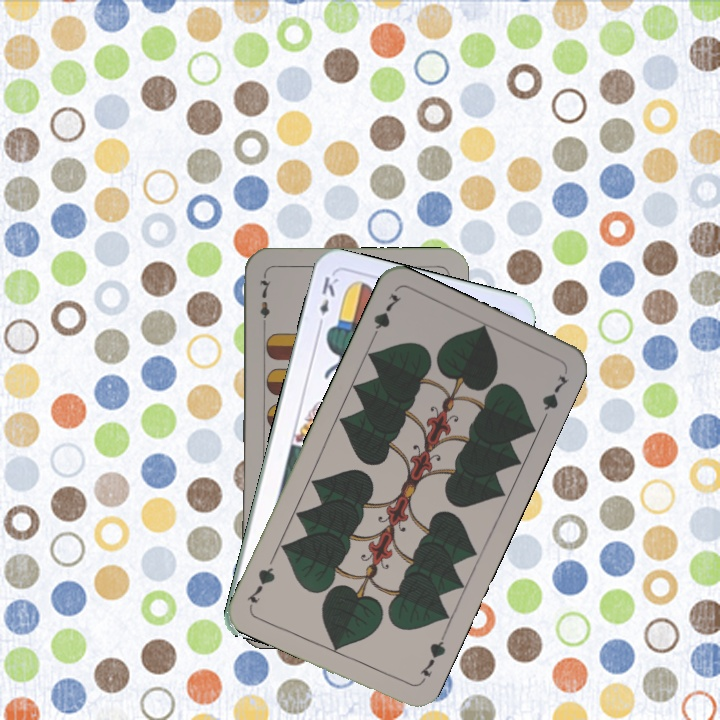E7: (255, 273, 273, 332)
EK: (314, 272, 341, 331)
G7: (366, 289, 404, 344), (415, 631, 448, 687)
